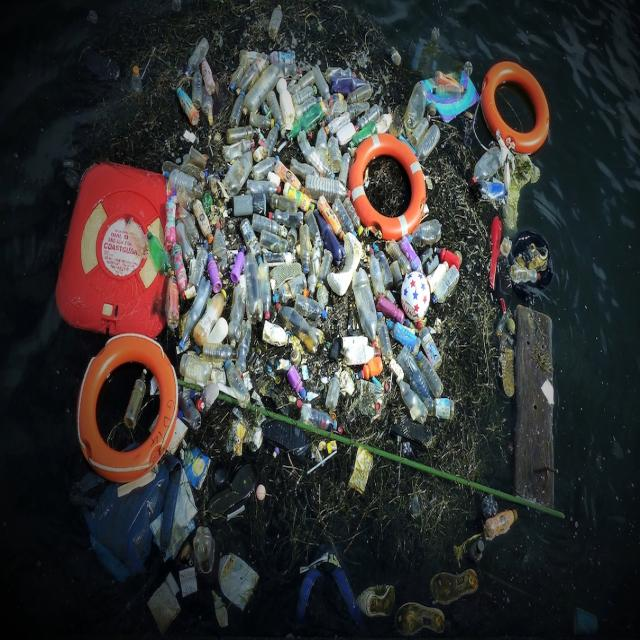plastic watse: (58, 38, 486, 632), (404, 122, 505, 478)
